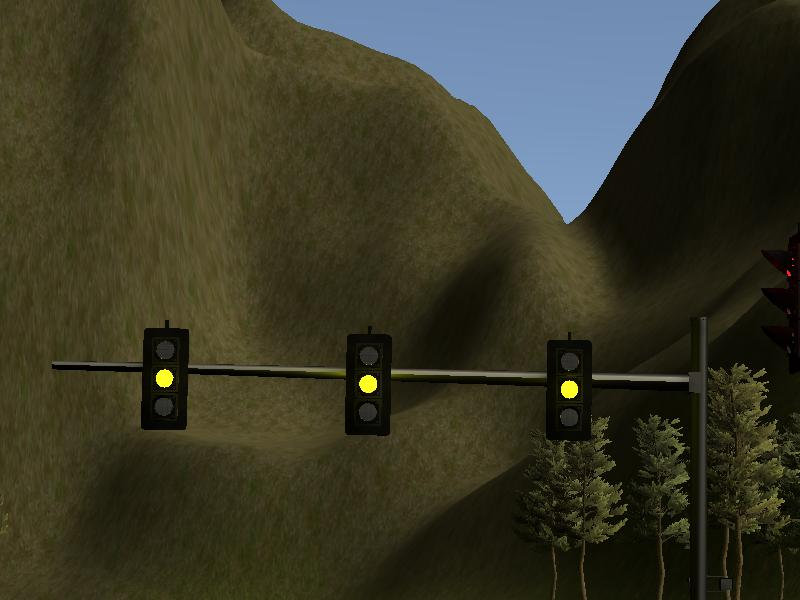yellow: (344, 330, 393, 437), (141, 326, 191, 430), (546, 337, 591, 442)
